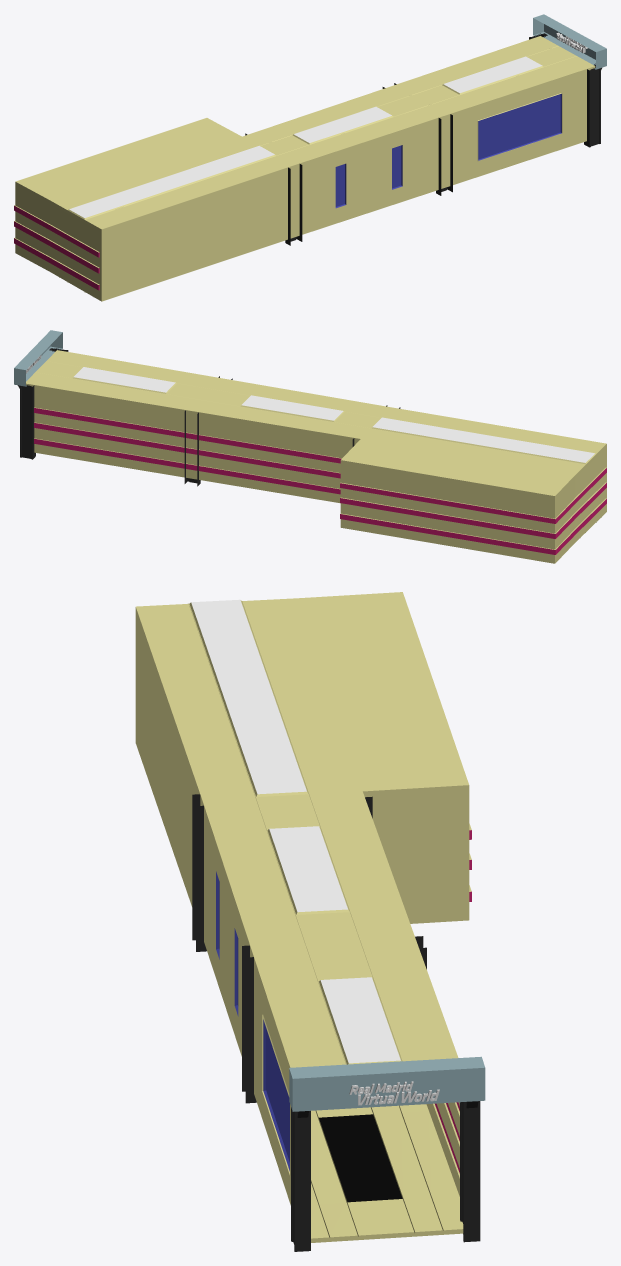
Rendered from entradaTour.FBX.
3 views of the same model, one above another, from view 1: azimuth 30°, elevation 25°; view 2: azimuth 150°, elevation 25°; view 3: azimuth 270°, elevation 25° (orthographic). The views are drawn at different scales.
Parts seen in each view (by area): view 1: entrada; view 2: entrada; view 3: entrada, textoEntrada.
Part boxes in pixels (x1,y1,x2,y2): entrada: [14, 14, 606, 301]; entrada: [14, 330, 606, 563]; entrada: [135, 592, 485, 1251]; textoEntrada: [349, 1081, 439, 1105].
Bounding box in the file's own units: 2109 × 337 × 599.
